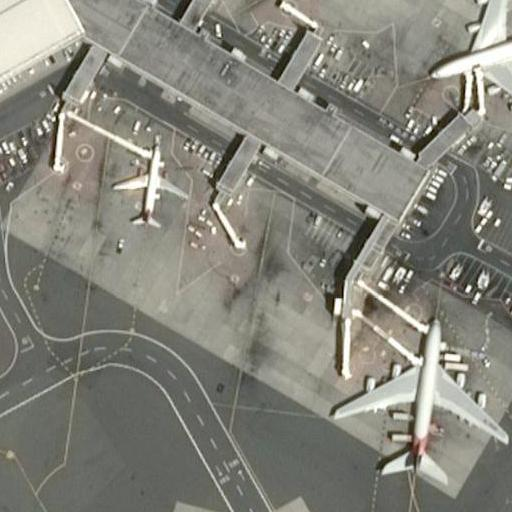Aircraft: (331, 304, 512, 486), (418, 0, 512, 132), (112, 139, 185, 230)
